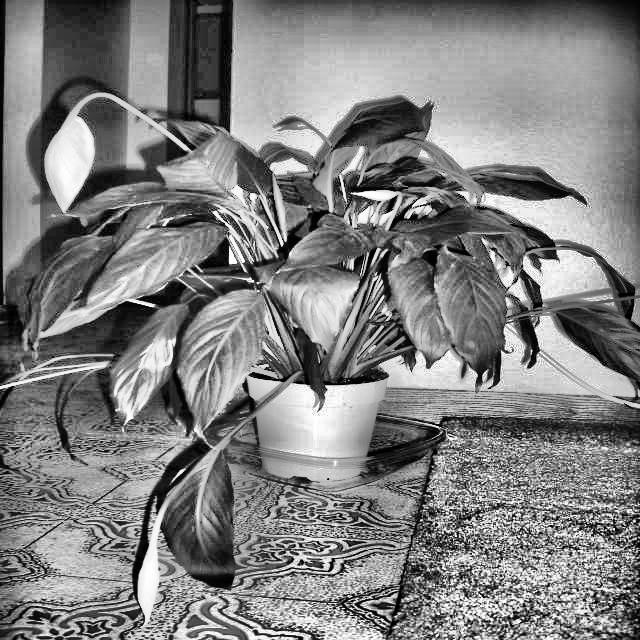plants: (35, 96, 569, 443)
